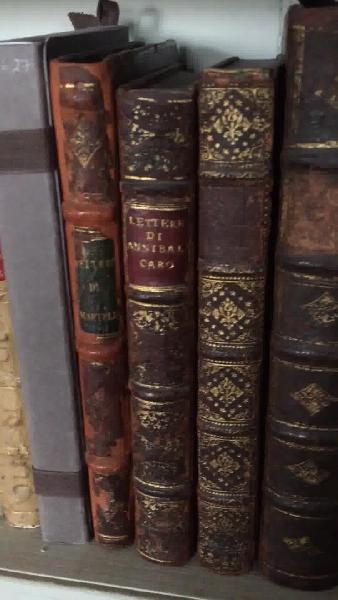Aa6-27: (1, 37, 86, 544)
Aa6-28: (49, 48, 136, 546)
Aa6-29: (115, 89, 197, 565)
Aa6-30: (193, 59, 268, 569)
Aa6-31: (271, 5, 338, 569)
